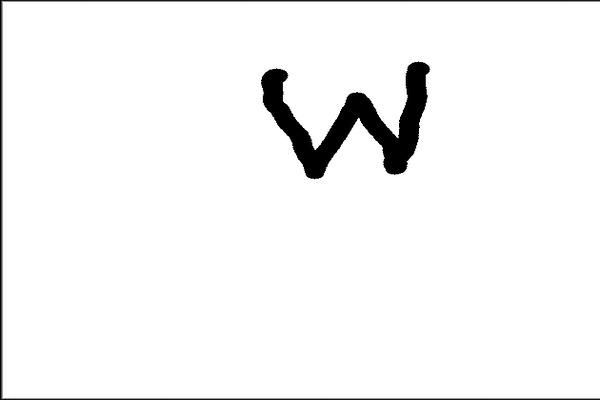w: (249, 54, 444, 195)
